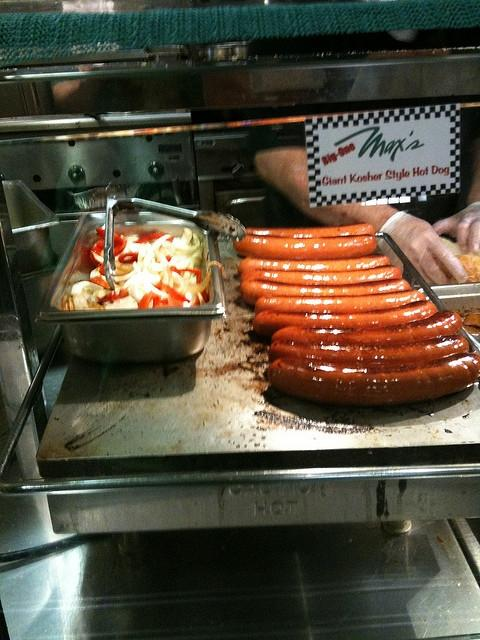onion: (181, 260, 226, 298), (90, 237, 138, 264), (133, 262, 168, 298), (140, 234, 170, 273), (154, 249, 174, 289), (164, 233, 199, 255), (105, 296, 139, 310), (100, 269, 138, 281), (129, 281, 143, 303), (71, 280, 90, 294), (172, 272, 184, 294), (180, 227, 192, 245), (168, 254, 186, 266), (129, 243, 146, 255), (147, 262, 161, 276), (76, 294, 90, 308), (162, 268, 169, 286), (197, 292, 205, 306), (192, 253, 202, 261)
